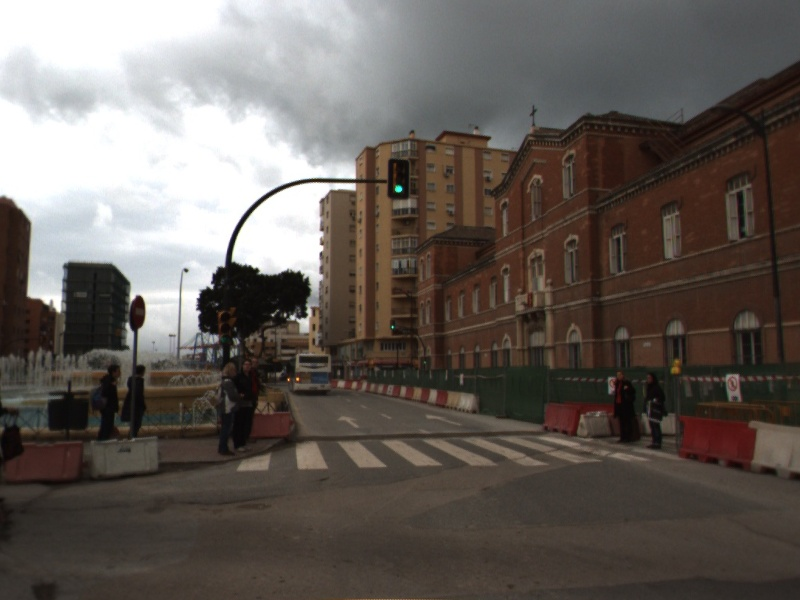STRAIGHT: (424, 412, 464, 428), (335, 413, 362, 430)
